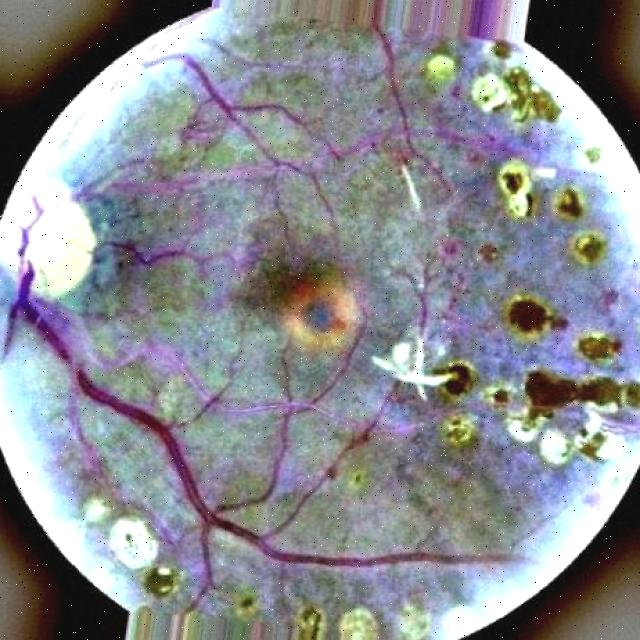Macula: (287, 286, 372, 349)
Nerves: (25, 312, 211, 517), (50, 100, 96, 171), (111, 236, 180, 272)
Optic Disk: (0, 179, 100, 309)
